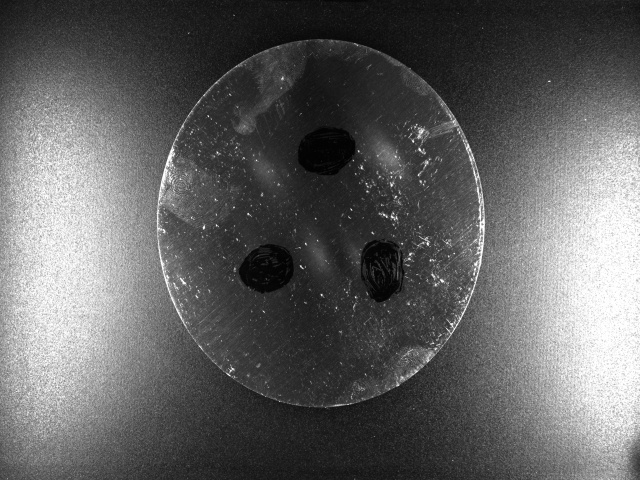zang_wu: (296, 125, 359, 179), (359, 236, 406, 305), (236, 242, 297, 295)
